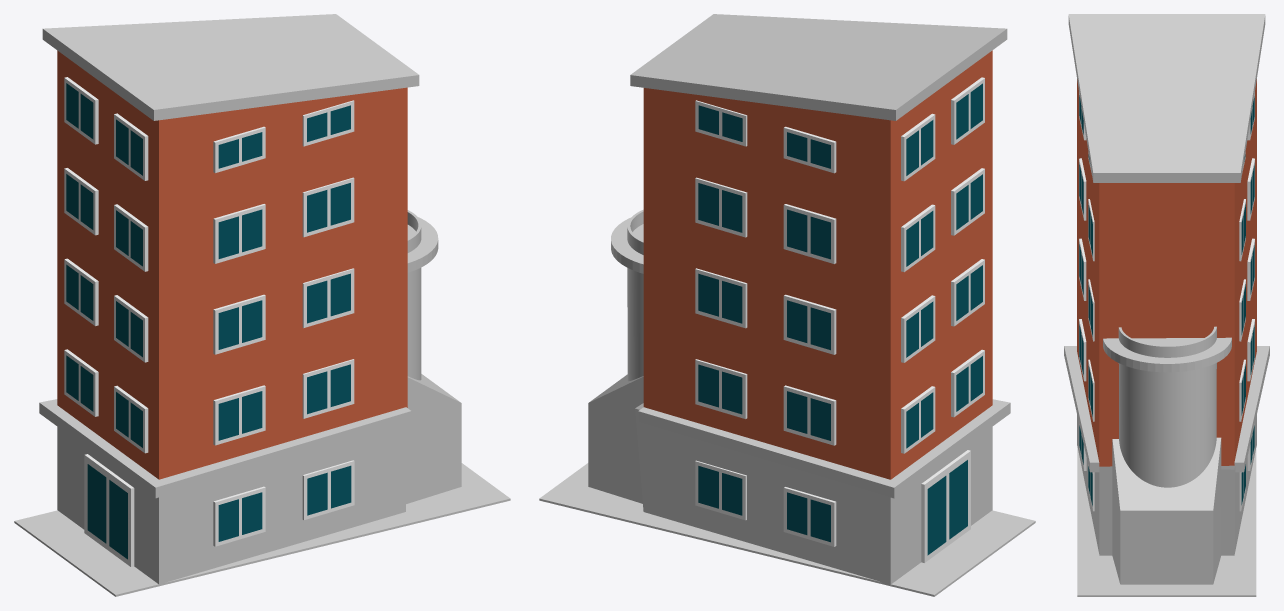
File: Predio03.fbx
3 renders of one model, left to right at view 1: azimuth 30°, elevation 25°; view 2: azimuth 150°, elevation 25°; view 3: azimuth 270°, elevation 25°, orthographic. The views are drawn at different scales.
Visible parts, largest first — view 1: Corpo, Teto, Base Corpo, Chao, Base Corpo.001, Base Traseira, Janela.020, Janela.029, Janela.024, Janela.025, Janela.026, Janela.015 (+15 smaller); view 2: Corpo, Teto, Base Corpo, Chao, Base Corpo.001, Base Traseira, Janela.020, Janela.014, Janela.013, Janela.012, Janela.008, Janela.018 (+15 smaller); view 3: Corpo, Teto, Base Traseira, Circle, Chao, Base Corpo, Base Corpo.001, Cylinder, Janela.014, Janela.013, Janela.012, Janela.025 (+8 smaller).
Part boxes in pixels (x1,y1,x2,y2): Corpo: [57, 50, 407, 479]; Teto: [42, 14, 419, 120]; Base Corpo: [57, 423, 405, 585]; Chao: [14, 463, 510, 596]; Base Corpo.001: [39, 399, 411, 498]; Base Traseira: [406, 374, 461, 503]; Janela.020: [84, 454, 134, 566]; Janela.029: [213, 486, 265, 546]; Janela.024: [213, 385, 265, 445]; Janela.025: [213, 294, 265, 354]; Janela.026: [213, 204, 265, 263]; Janela.015: [302, 460, 354, 519]; Corpo: [643, 50, 992, 479]; Teto: [630, 14, 1007, 120]; Base Corpo: [635, 403, 992, 585]; Chao: [539, 463, 1035, 596]; Base Corpo.001: [638, 399, 1010, 498]; Base Traseira: [588, 374, 643, 503]; Janela.020: [921, 450, 970, 562]; Janela.014: [783, 385, 836, 445]; Janela.013: [783, 294, 836, 354]; Janela.012: [783, 204, 836, 263]; Janela.008: [783, 487, 836, 546]; Janela.018: [695, 268, 747, 328]; Corpo: [1077, 79, 1256, 466]; Teto: [1068, 14, 1265, 182]; Base Traseira: [1112, 437, 1221, 584]; Circle: [1118, 326, 1216, 487]; Chao: [1077, 446, 1256, 596]; Base Corpo: [1077, 415, 1256, 555]; Base Corpo.001: [1064, 346, 1269, 472]; Cylinder: [1103, 337, 1231, 372]; Janela.014: [1247, 319, 1254, 381]; Janela.013: [1247, 238, 1254, 300]; Janela.012: [1247, 158, 1254, 220]; Janela.025: [1079, 238, 1086, 300].
Bounding box in the file's own units: 450 × 525 × 229.
